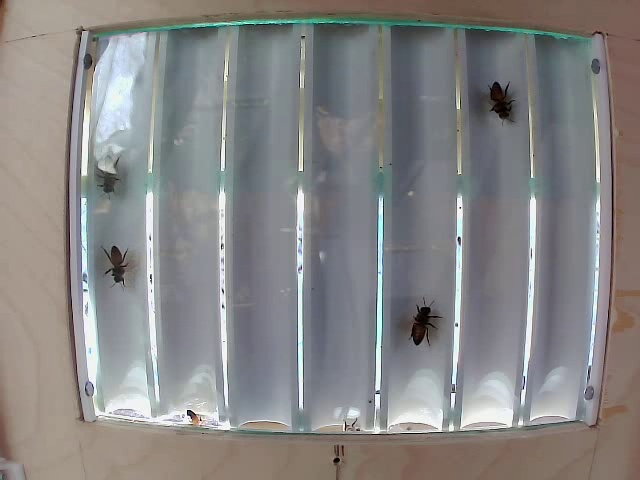bee: (391, 287, 439, 350), (90, 229, 132, 286), (475, 69, 514, 126), (95, 150, 133, 205)
